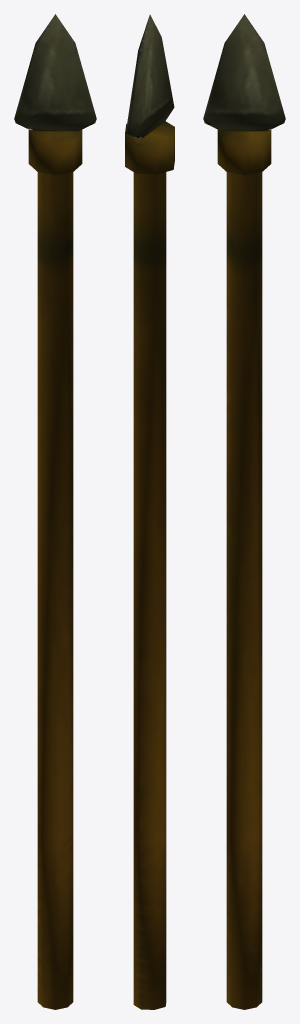
The model's file is StoneSpear.glb.
3 views of the same model, side by side, from view 1: azimuth 90°, elevation 25°; view 2: azimuth 150°, elevation 25°; view 3: azimuth 270°, elevation 25° (orthographic).
Visible parts, largest first — view 1: Cubo.005; view 2: Cubo.005; view 3: Cubo.005.
Part boxes in pixels (<box>): Cubo.005: <box>14,14,96,1009</box>; Cubo.005: <box>125,14,174,1009</box>; Cubo.005: <box>203,14,285,1009</box>.
Size of the model in its own units: 2.28 by 45.5 by 3.45.
1 material, 1 textured.
